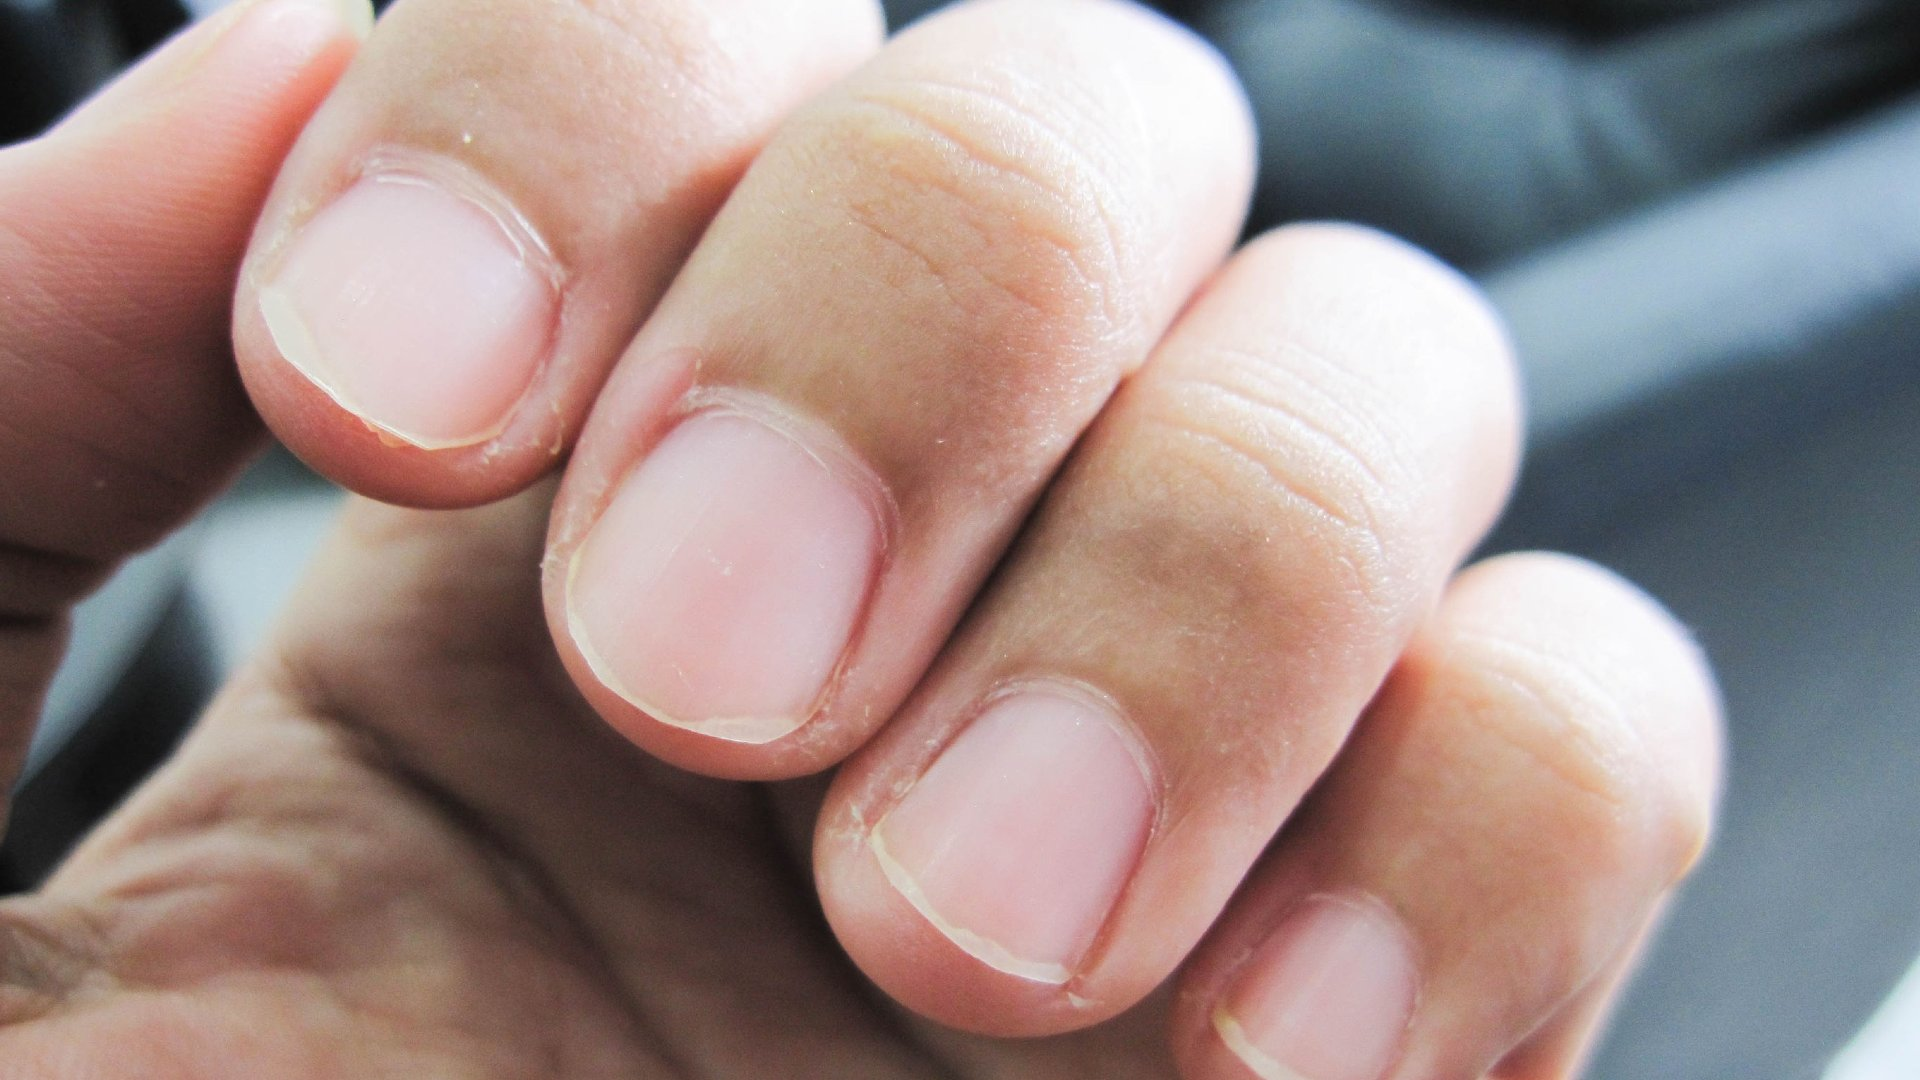nails: (545, 384, 902, 752), (241, 146, 564, 465), (861, 659, 1168, 992), (45, 1, 389, 136), (1205, 873, 1428, 1080)
